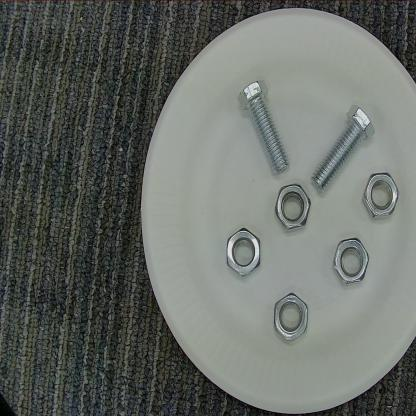FOD: (308, 96, 378, 204), (226, 76, 292, 185), (330, 230, 377, 289), (358, 165, 402, 224), (223, 223, 263, 284), (269, 182, 314, 236), (272, 290, 313, 348)
